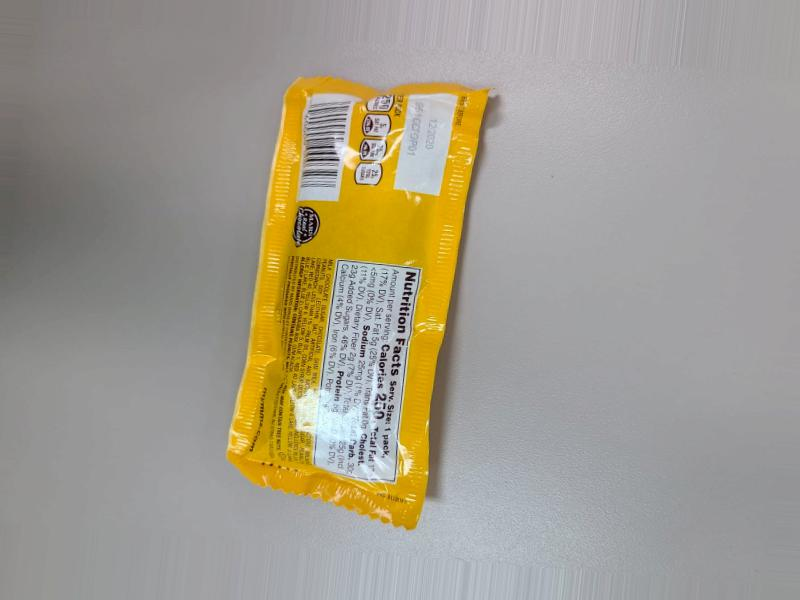m&m: (246, 142, 460, 589)
